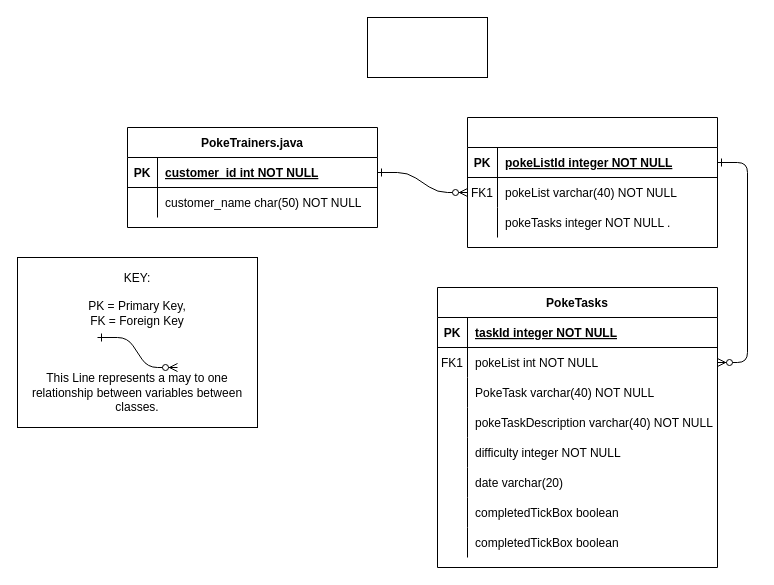
The diagram is 774 pixels wide and 585 high, and some of its shapes have lost their labels. The shapes that lost their labels are listed below. From the top down, each one's box as (x1, y1, x2, y2) in pixels, then its label:
(366, 16, 488, 78): PokePlanner ERD Christopher Yiangou
(466, 116, 718, 248): PokeList.java
